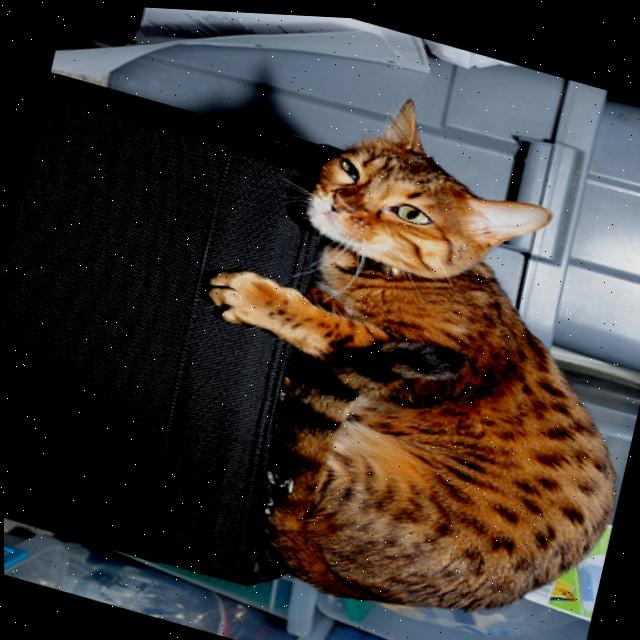Bengal: (140, 39, 640, 640)
